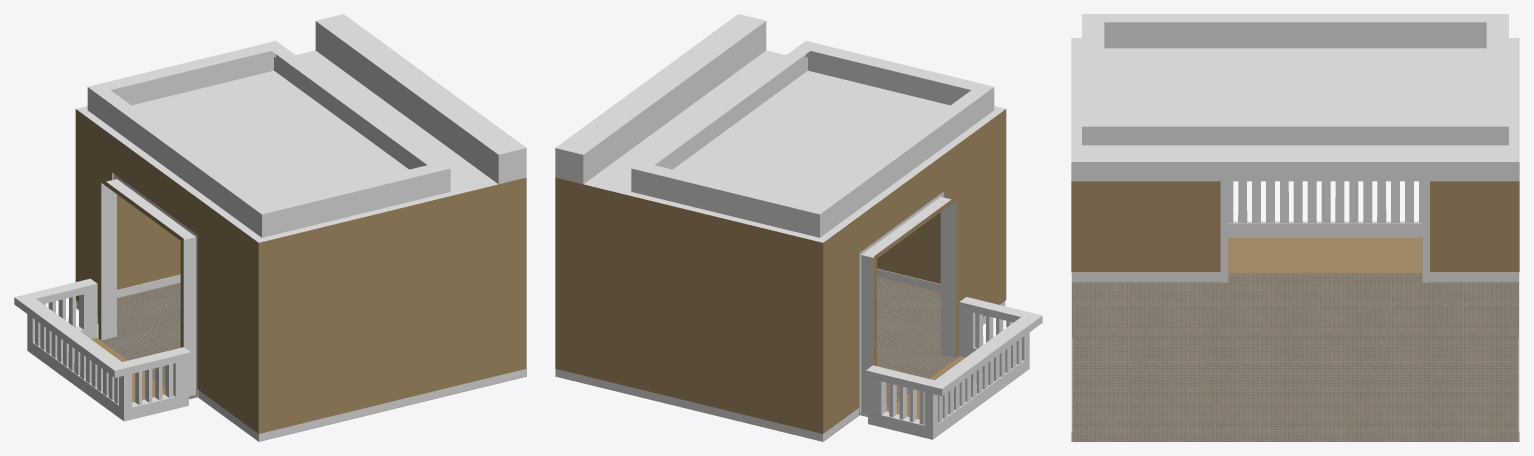
Rendered from Room02.FBX.
The picture shows the model from 3 angles, left to right: view 1: azimuth 30°, elevation 25°; view 2: azimuth 150°, elevation 25°; view 3: azimuth 270°, elevation 25°; orthographic projection. The views are drawn at different scales.
Parts seen in each view (by area): view 1: Room02; view 2: Room02; view 3: Room02.
Boxes of the visible parts, left/top/right/bottom form: Room02: left=14, top=14, right=526, bottom=441; Room02: left=555, top=14, right=1042, bottom=441; Room02: left=1071, top=14, right=1519, bottom=441.
Bounding box in the file's own units: 661 × 585 × 405.
